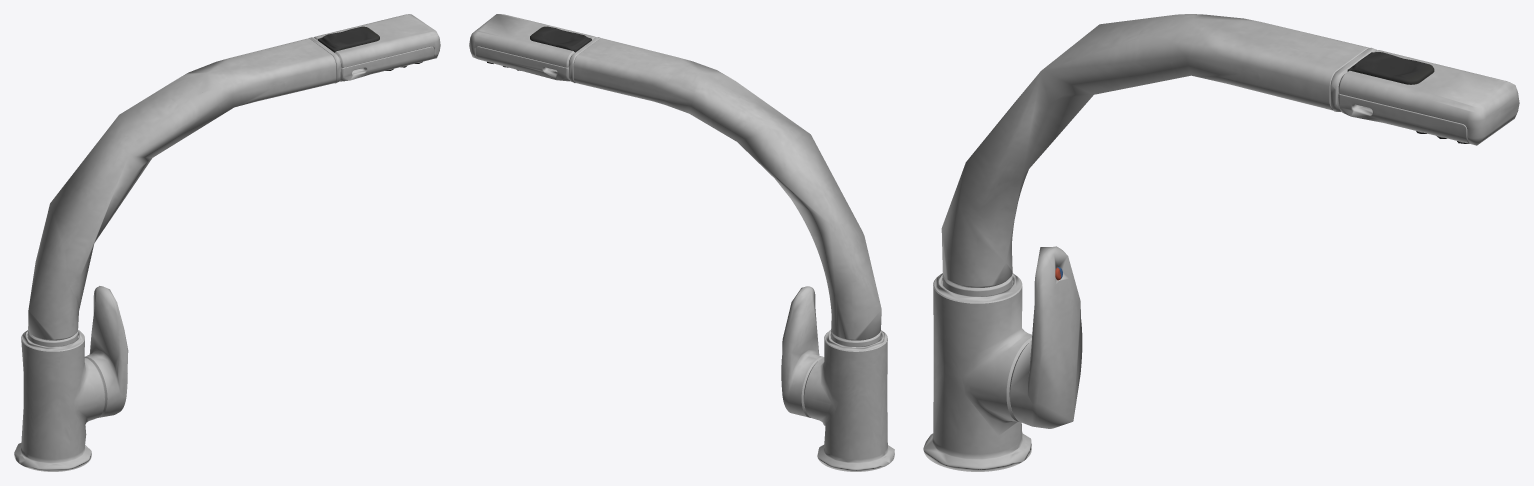
The model's file is fixture_faucet_stainless_a01.glb.
3 views of the same model, side by side, from view 1: azimuth 30°, elevation 25°; view 2: azimuth 150°, elevation 25°; view 3: azimuth 330°, elevation 25° (orthographic). The views are drawn at different scales.
Visible parts, largest first — view 1: sm_fixture_faucet_stainless_a01_01; view 2: sm_fixture_faucet_stainless_a01_01; view 3: sm_fixture_faucet_stainless_a01_01.
Boxes of the visible parts, box(x1,y1,x2,y2) form: sm_fixture_faucet_stainless_a01_01: box(14, 14, 440, 471); sm_fixture_faucet_stainless_a01_01: box(469, 14, 894, 471); sm_fixture_faucet_stainless_a01_01: box(923, 14, 1519, 471).
Bounding box in the file's own units: 0.3075 × 0.2499 × 0.0509.
Materials: 7 (7 with a texture image).
